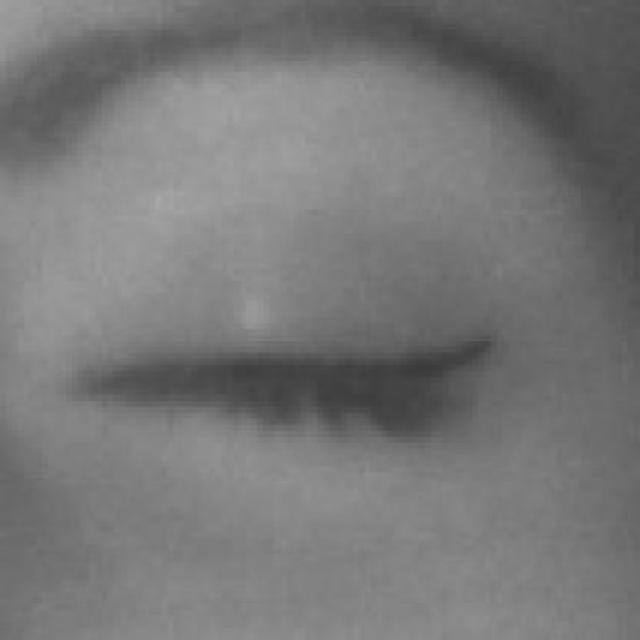drowsy: (59, 202, 483, 566)
